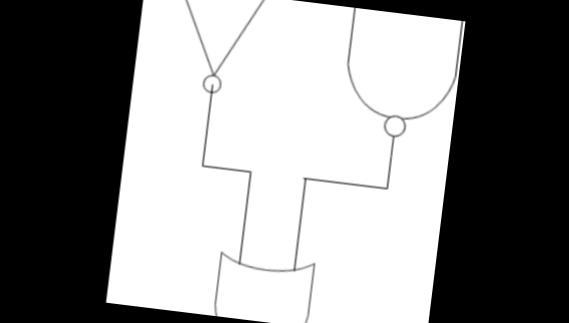nand: (330, 6, 464, 148)
not: (148, 0, 289, 104)
or: (203, 239, 330, 323)
